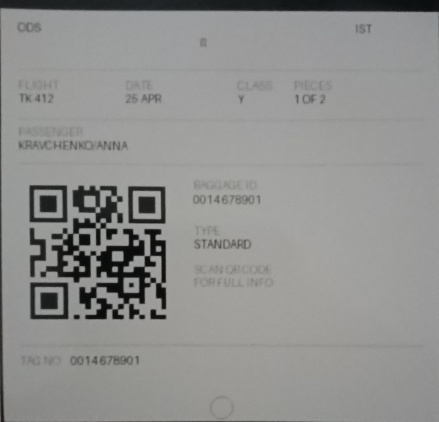LPN_bottom: (65, 351, 143, 370)
LPN_right: (187, 188, 264, 209)
